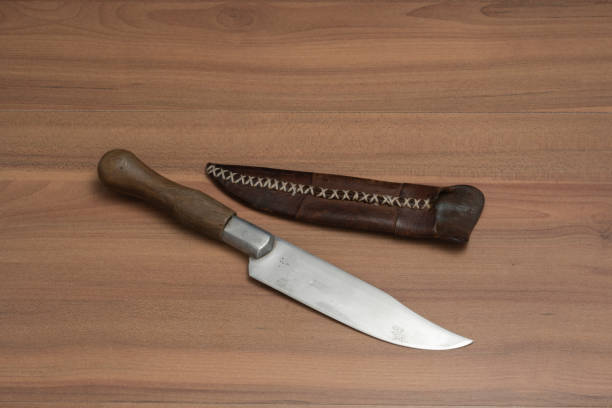knife: (96, 146, 476, 353)
